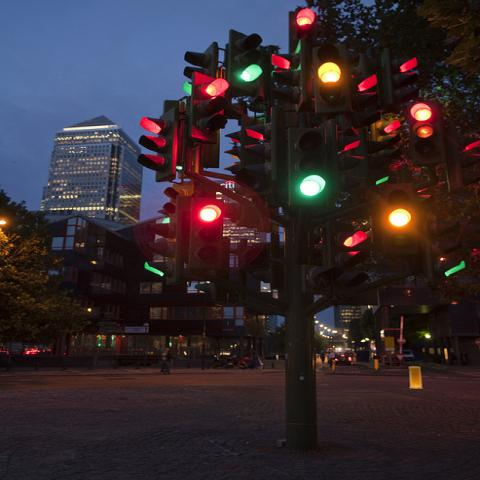car: (334, 352, 352, 365)
